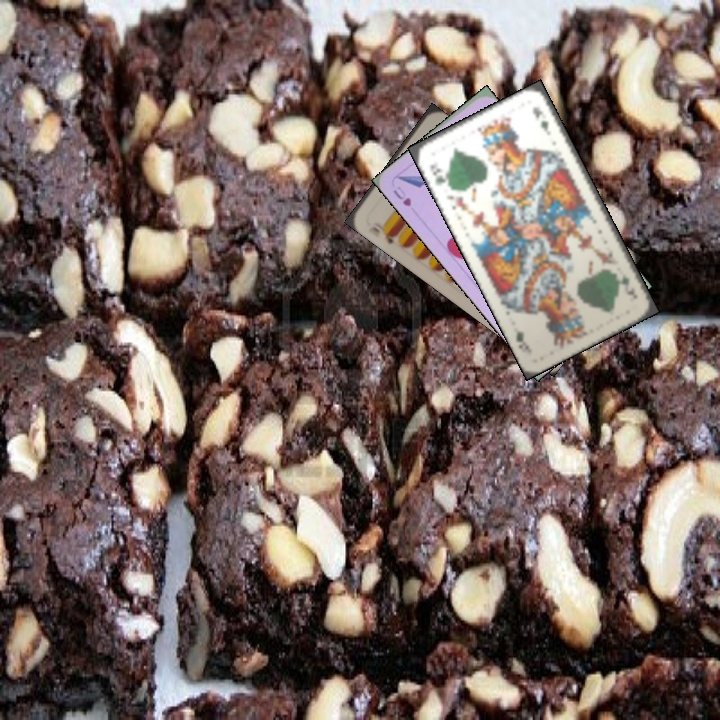E10: (369, 218, 399, 247)
GK: (613, 270, 641, 302), (425, 158, 453, 189)
HU: (389, 182, 414, 209)
